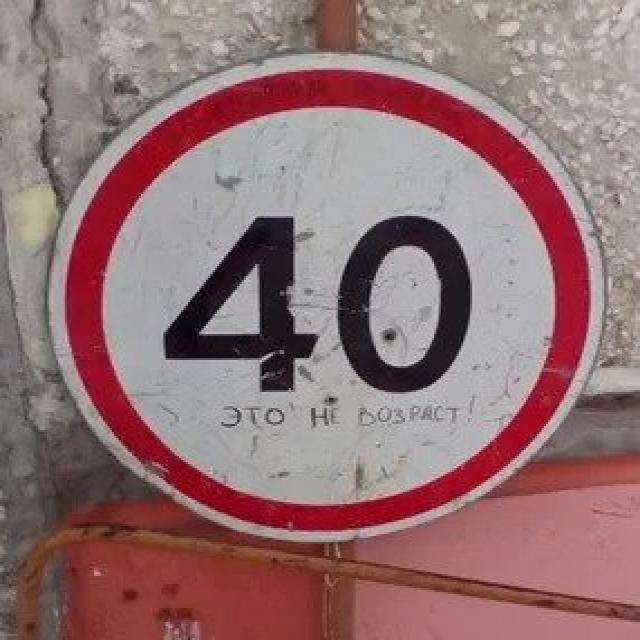speed limit 40: (44, 50, 610, 546)
